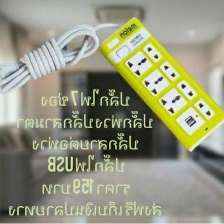three_eye_plug: (95, 13, 224, 158)
